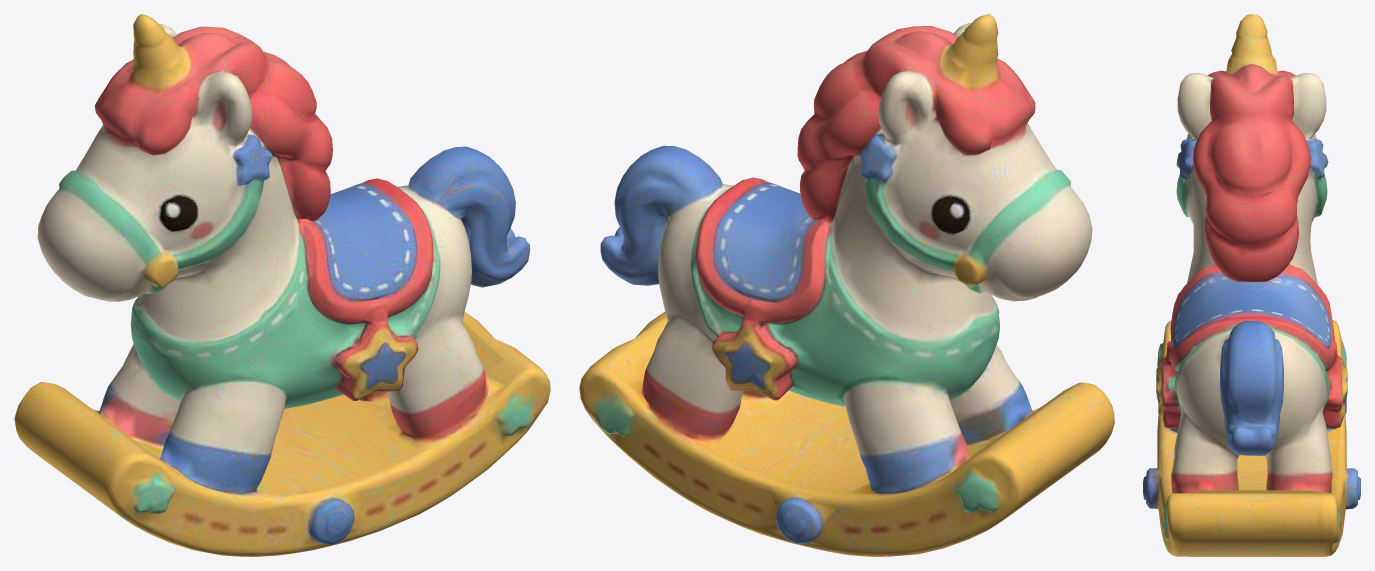
3 views of the same model, side by side, from view 1: azimuth 30°, elevation 25°; view 2: azimuth 150°, elevation 25°; view 3: azimuth 270°, elevation 25° (orthographic). The views are drawn at different scales.
Bounding box in the file's own units: 1.79 × 1.91 × 0.8415.
Materials: 1 (1 with a texture image).
